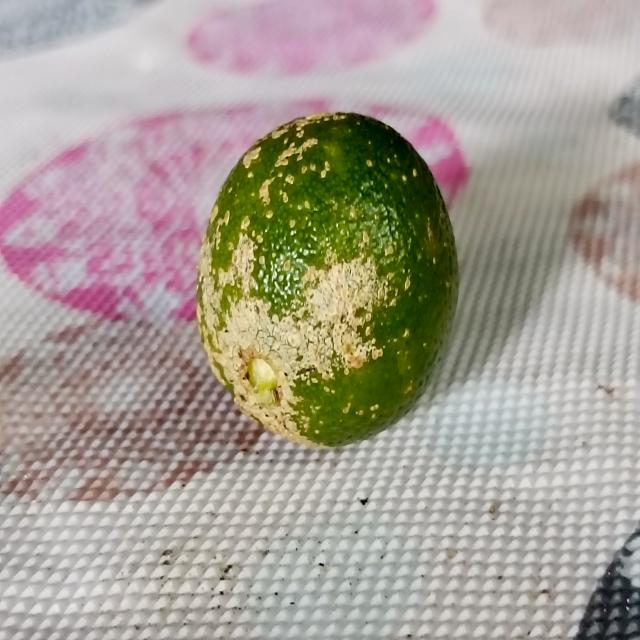scab: (195, 105, 463, 450)
